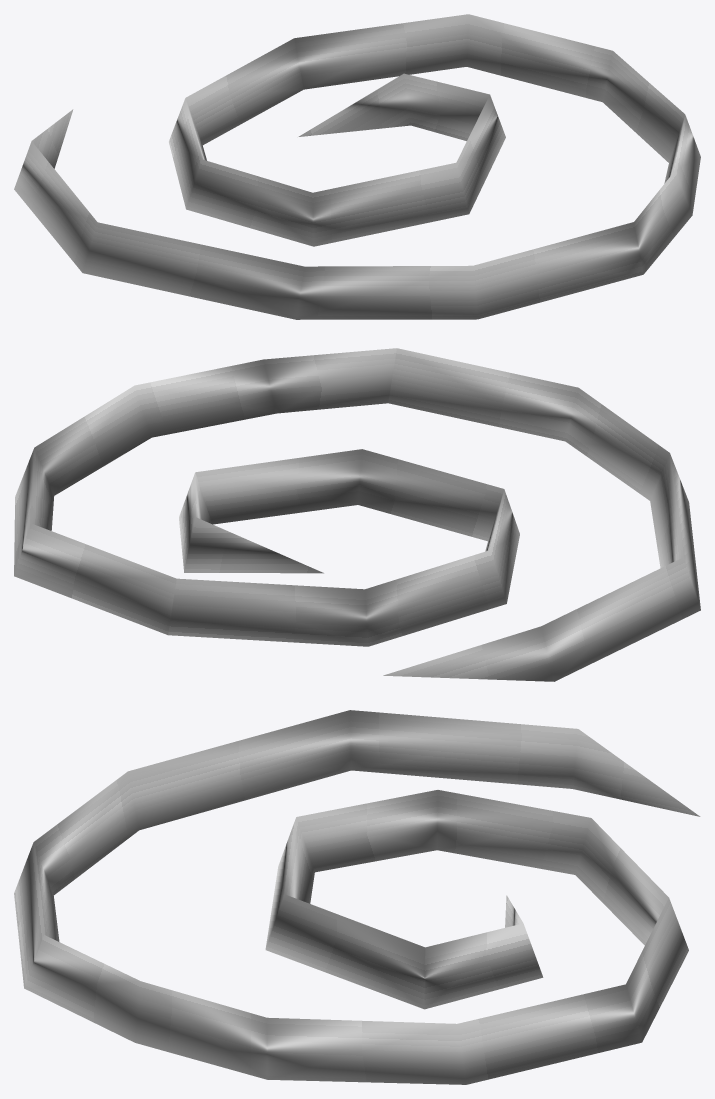
File: liana.obj
3 renders of one model, top to bottom at view 1: azimuth 30°, elevation 25°; view 2: azimuth 150°, elevation 25°; view 3: azimuth 270°, elevation 25°, orthographic. The views are drawn at different scales.
Visible parts, largest first — view 1: Cylinder01; view 2: Cylinder01; view 3: Cylinder01.
Part boxes in pixels (left/top/right/bottom): Cylinder01: left=14, top=14, right=700, bottom=319; Cylinder01: left=14, top=348, right=700, bottom=681; Cylinder01: left=14, top=710, right=700, bottom=1084.
Size of the model in its own units: 28.07 by 2.11 by 24.67.
